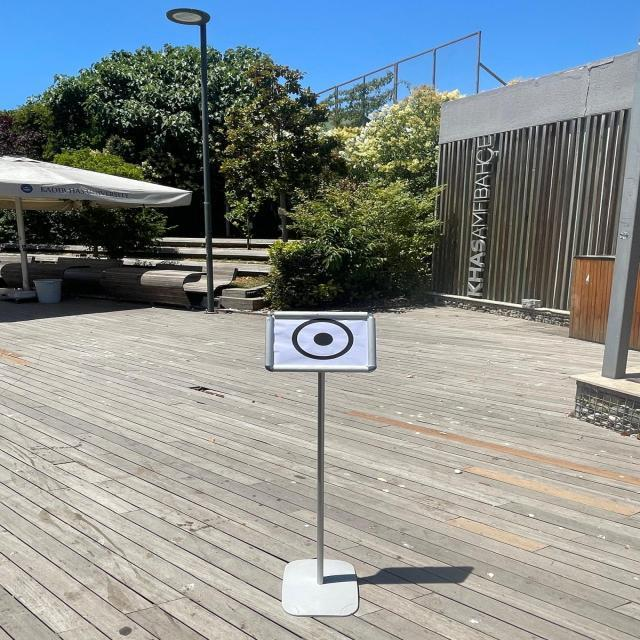Target: (254, 293, 394, 388)
inner: (309, 329, 337, 352)
